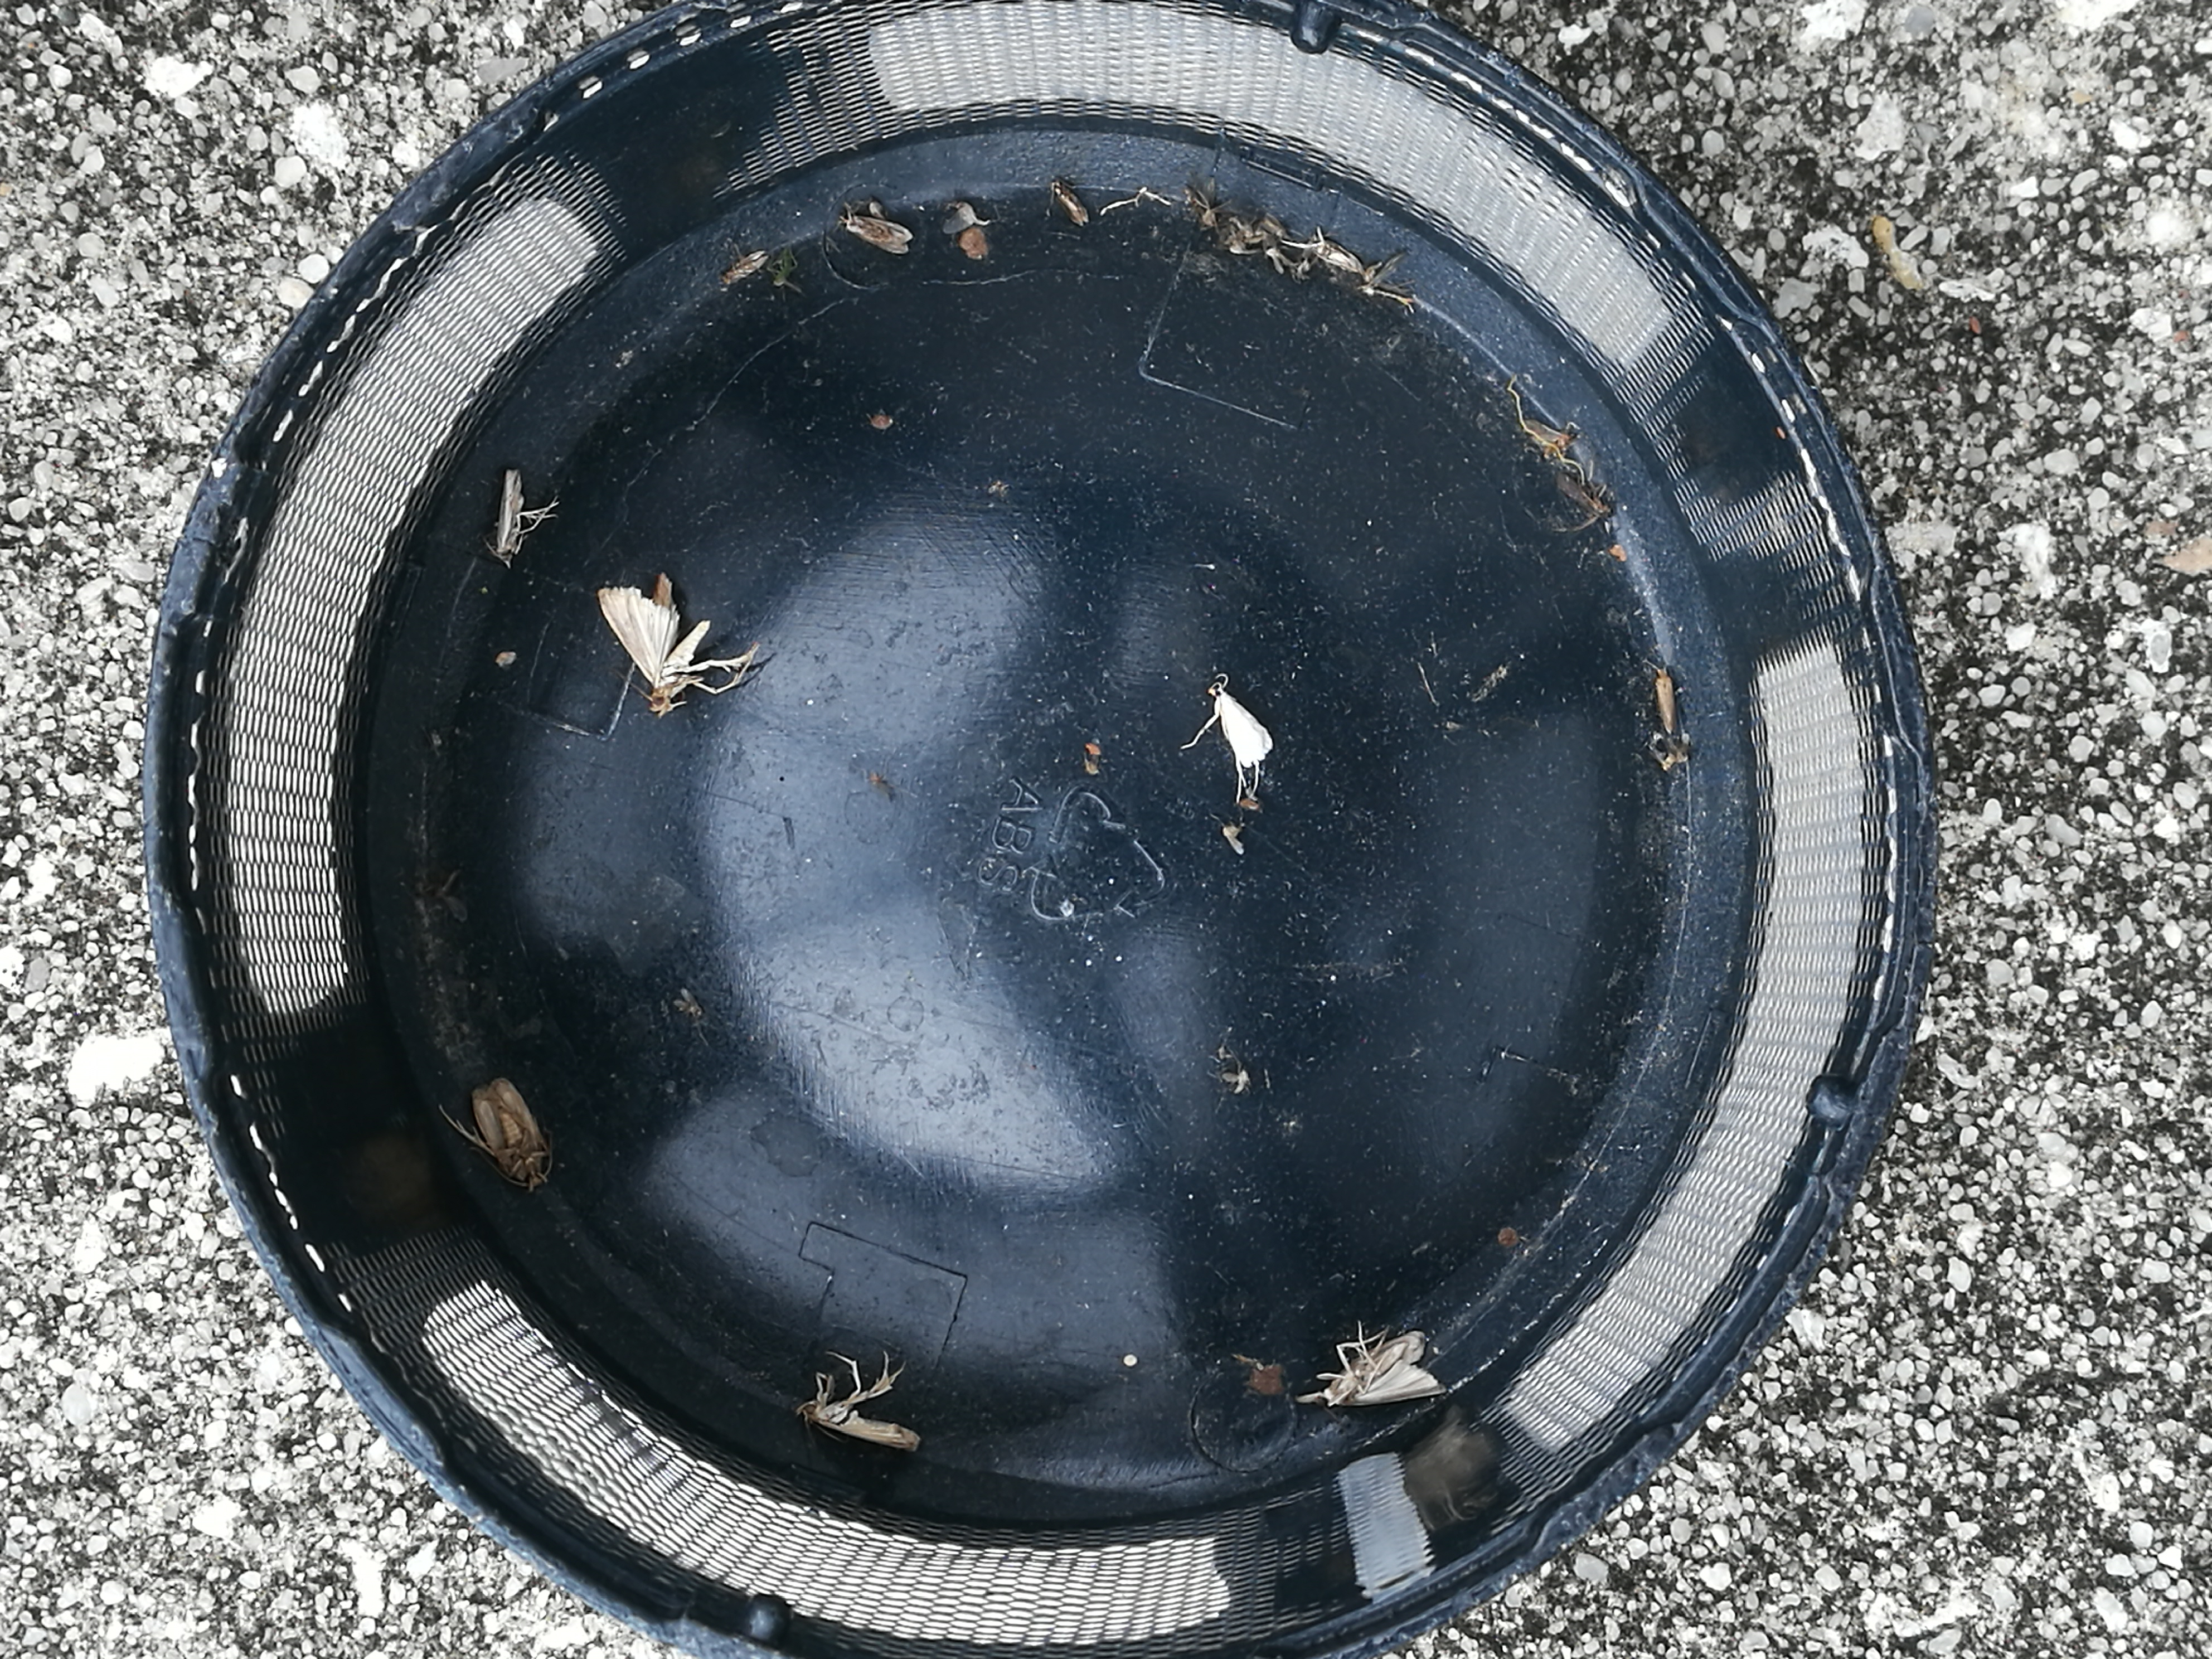mosquito: (801, 1401, 920, 1445), (845, 216, 913, 254), (495, 474, 524, 558), (1658, 662, 1676, 730)
moth: (599, 575, 714, 708), (1308, 1330, 1440, 1403), (474, 1075, 547, 1185), (1211, 681, 1271, 767)
